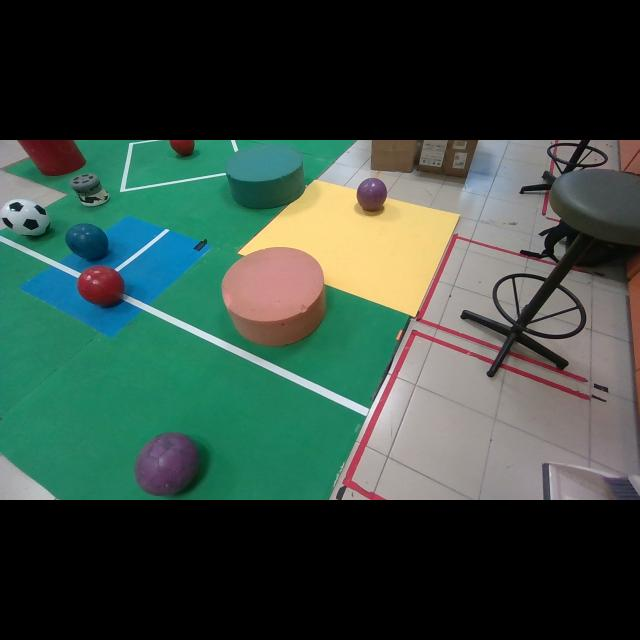B: (65, 224, 109, 261)
P: (135, 432, 199, 496), (356, 178, 388, 211)
R: (78, 265, 125, 306), (169, 140, 195, 156)
